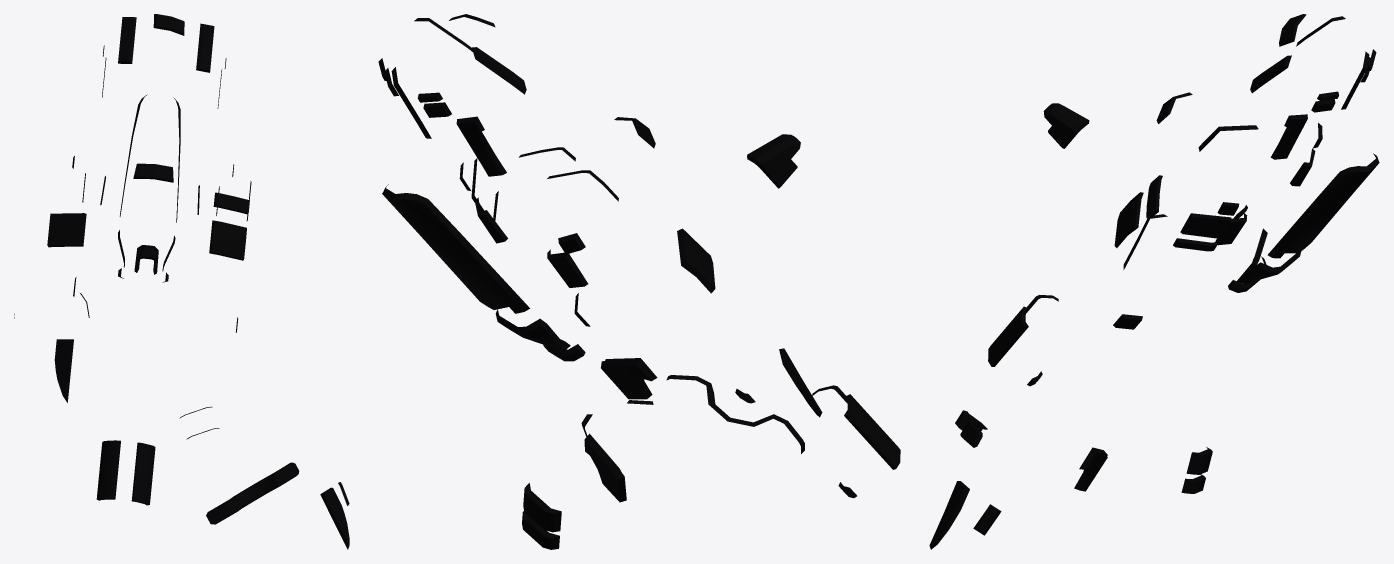
The model's file is prop_static_ama_shipwreck_02_02.glb.
3 renders of one model, left to right at view 1: azimuth 30°, elevation 25°; view 2: azimuth 150°, elevation 25°; view 3: azimuth 270°, elevation 25°, orthographic. The views are drawn at different scales.
Parts seen in each view (by area): view 1: ama_ship_wreck_02_02_LOD0; view 2: ama_ship_wreck_02_02_LOD0; view 3: ama_ship_wreck_02_02_LOD0.
Part boxes in pixels (bbox=[...]): ama_ship_wreck_02_02_LOD0: bbox=[14, 14, 349, 549]; ama_ship_wreck_02_02_LOD0: bbox=[378, 14, 900, 549]; ama_ship_wreck_02_02_LOD0: bbox=[929, 14, 1379, 549].
Size of what is drawn, in the model's own units: 3.37 by 5.74 by 4.55.
Materials: 1 (1 with a texture image).
